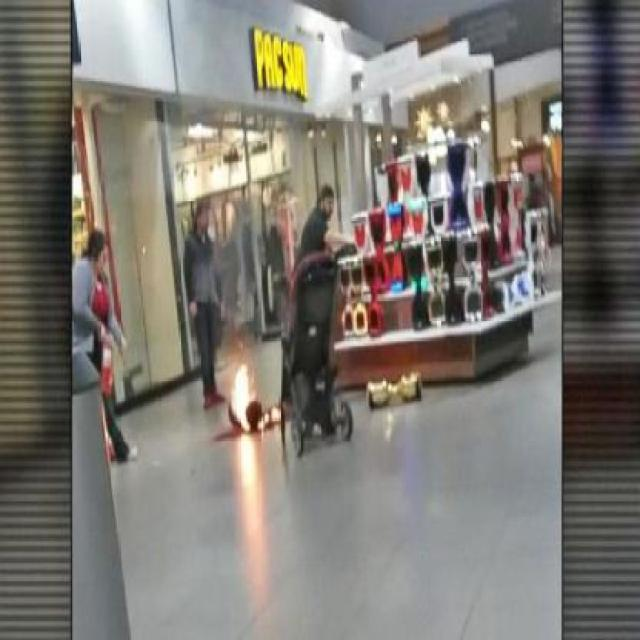Fire: (231, 357, 252, 435)
